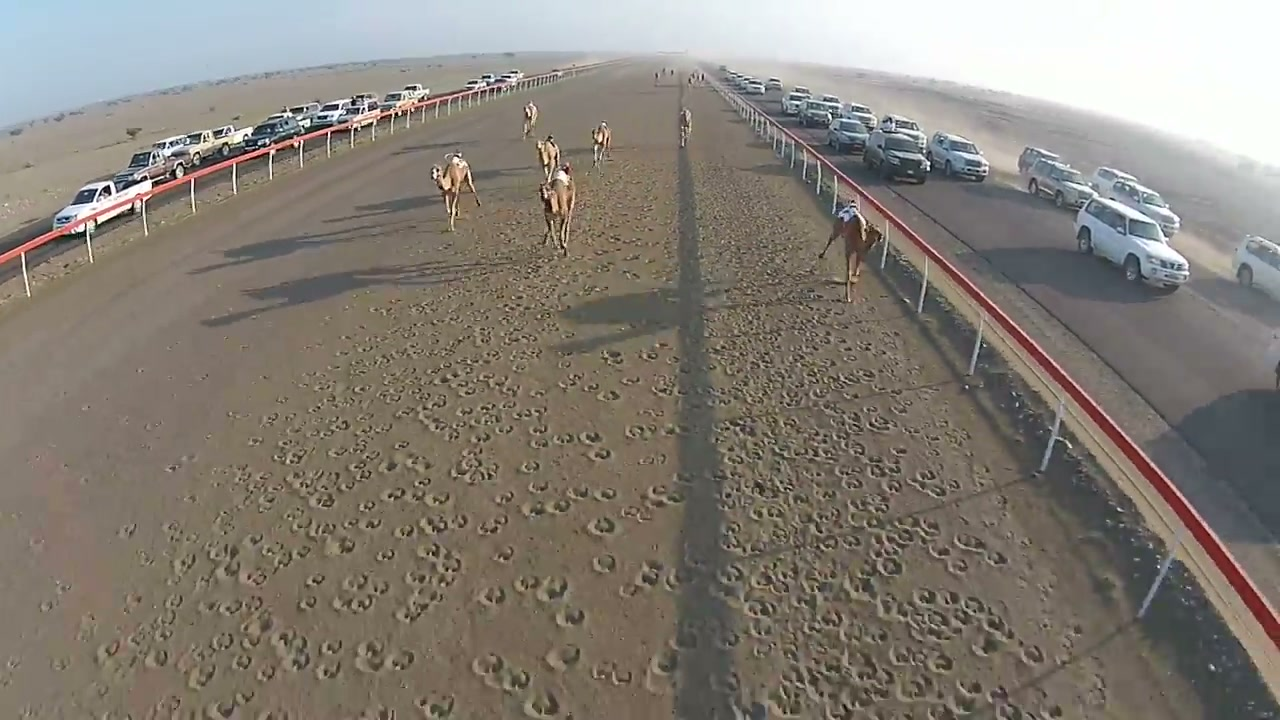animal_foot_print: (0, 120, 1194, 719), (693, 177, 1092, 716), (414, 693, 459, 719), (545, 643, 581, 672)
